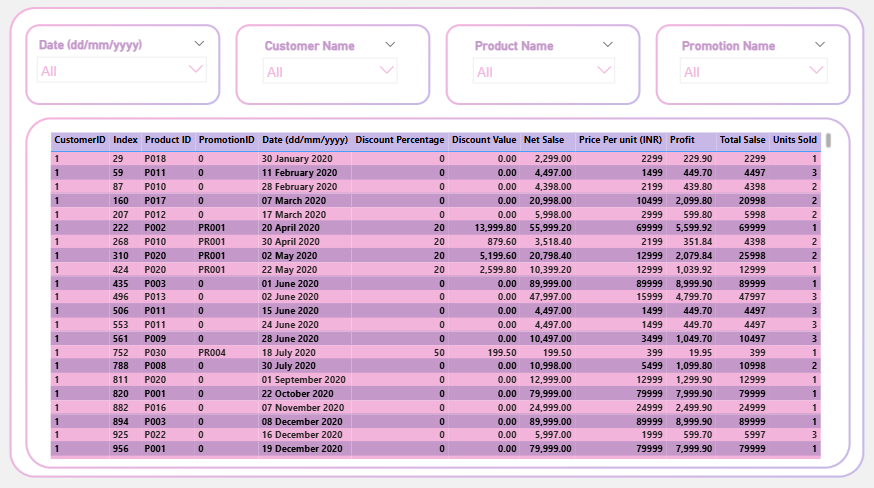

Layout of this report page (visuals, bound fields, positions):
{"tool":"powerbi","page":{"name":"Tabel View","canvas":[1280,720],"ordinal":4},"visuals":[{"type":"tableEx","fields":{"Values":["Fact Table.CustomerID","Fact Table.Index","Fact Table.Product ID","Fact Table.PromotionID","Fact Table.Date (dd/mm/yyyy)","Fact Table.Discount Percentage","Fact Table.Discount Value","Fact Table.Net Salse","Fact Table.Price Per unit (INR)","Fact Table.Profit ","Fact Table.Total Salse","Fact Table.Units Sold"]},"box":[73.8,190.8,1141.5,481.5],"z":0},{"type":"slicer","fields":{"Values":["Fact Table.Date (dd/mm/yyyy)"]},"box":[49.2,53.8,266.2,76.9],"z":1},{"type":"slicer","fields":{"Values":["Dim Customers.Customer Name"]},"box":[376.9,55.4,215.4,81.5],"z":2},{"type":"slicer","fields":{"Values":["Dim Product.Product Name"]},"box":[681.5,55.4,226.2,81.5],"z":3},{"type":"slicer","fields":{"Values":["Dim Promotion.Promotion Name"]},"box":[981.5,55.4,233.8,81.5],"z":4}]}

Visuals, with their boxes in screenshot pixels (x1, y1, x2, y2), scaled from the page's 1280x720 canvas onto the 874x488 screenshot:
tableEx - Fact Table.CustomerID x Fact Table.Index: [50,129,830,456]
slicer - Fact Table.Date (dd/mm/yyyy): [34,36,215,89]
slicer - Dim Customers.Customer Name: [257,38,404,93]
slicer - Dim Product.Product Name: [465,38,620,93]
slicer - Dim Promotion.Promotion Name: [670,38,830,93]
